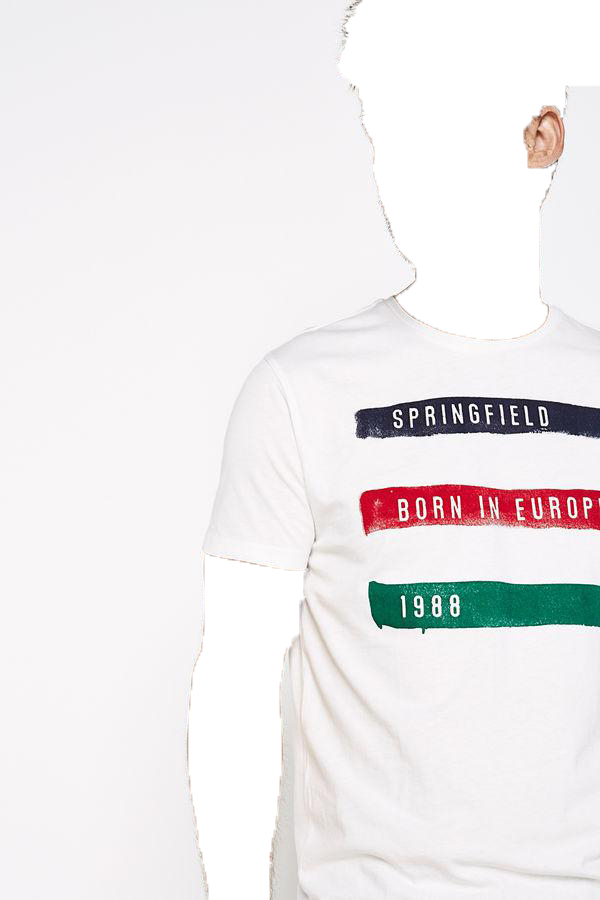teeshirt: (196, 296, 600, 898)
